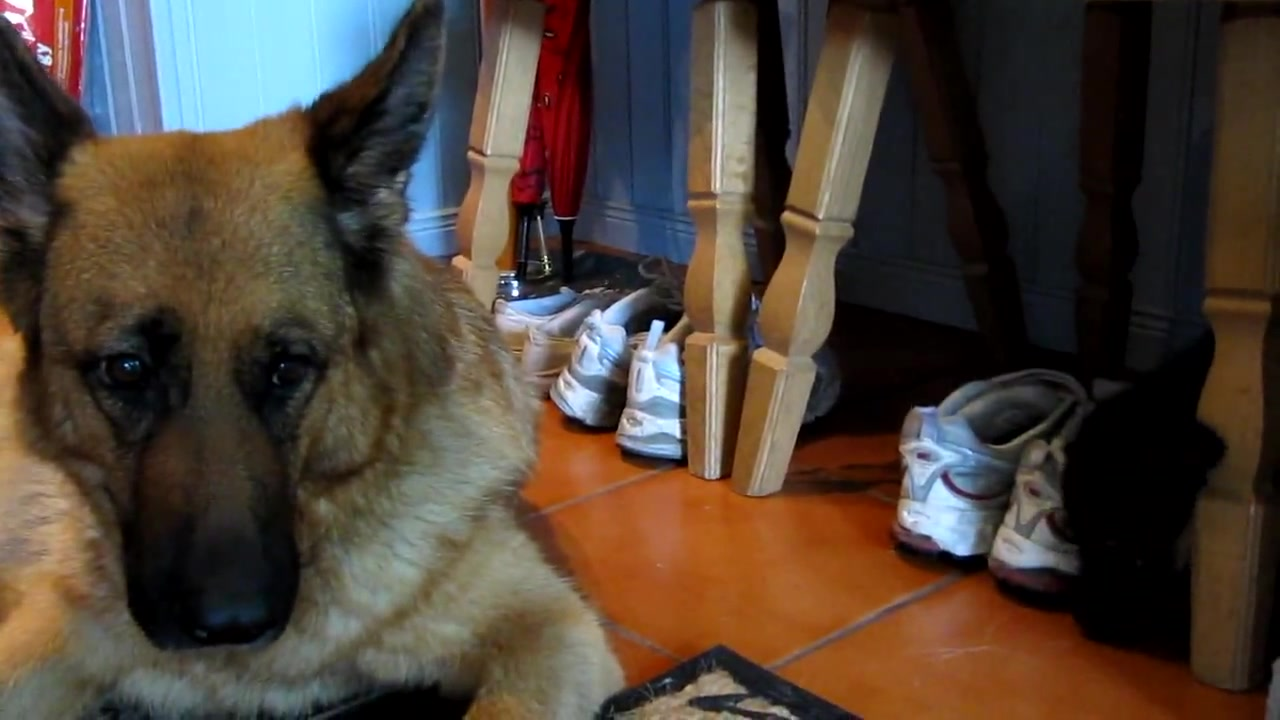dog: (1, 2, 623, 720)
